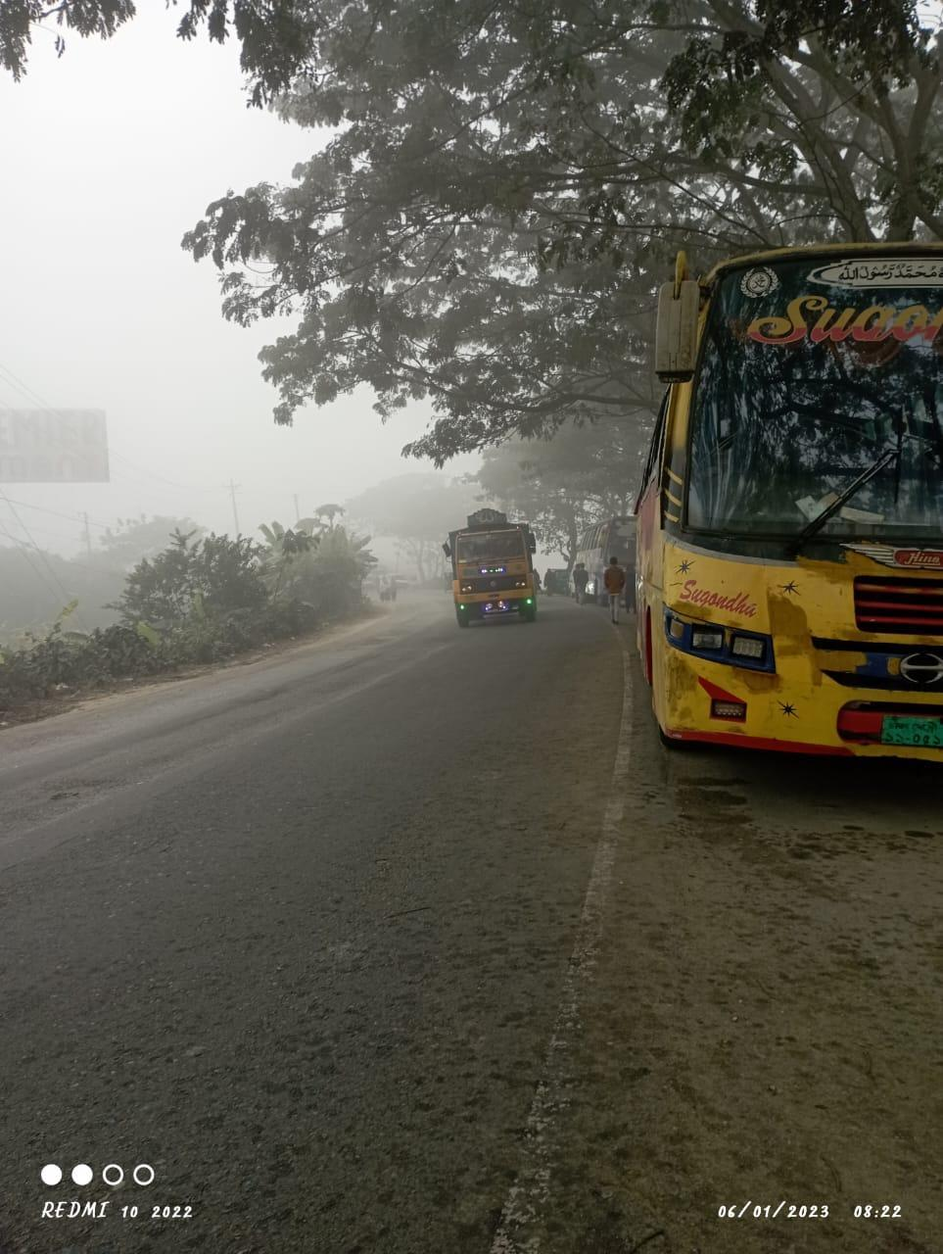Bus: (628, 235, 942, 807), (570, 512, 631, 615)
Truck: (435, 501, 546, 626)
